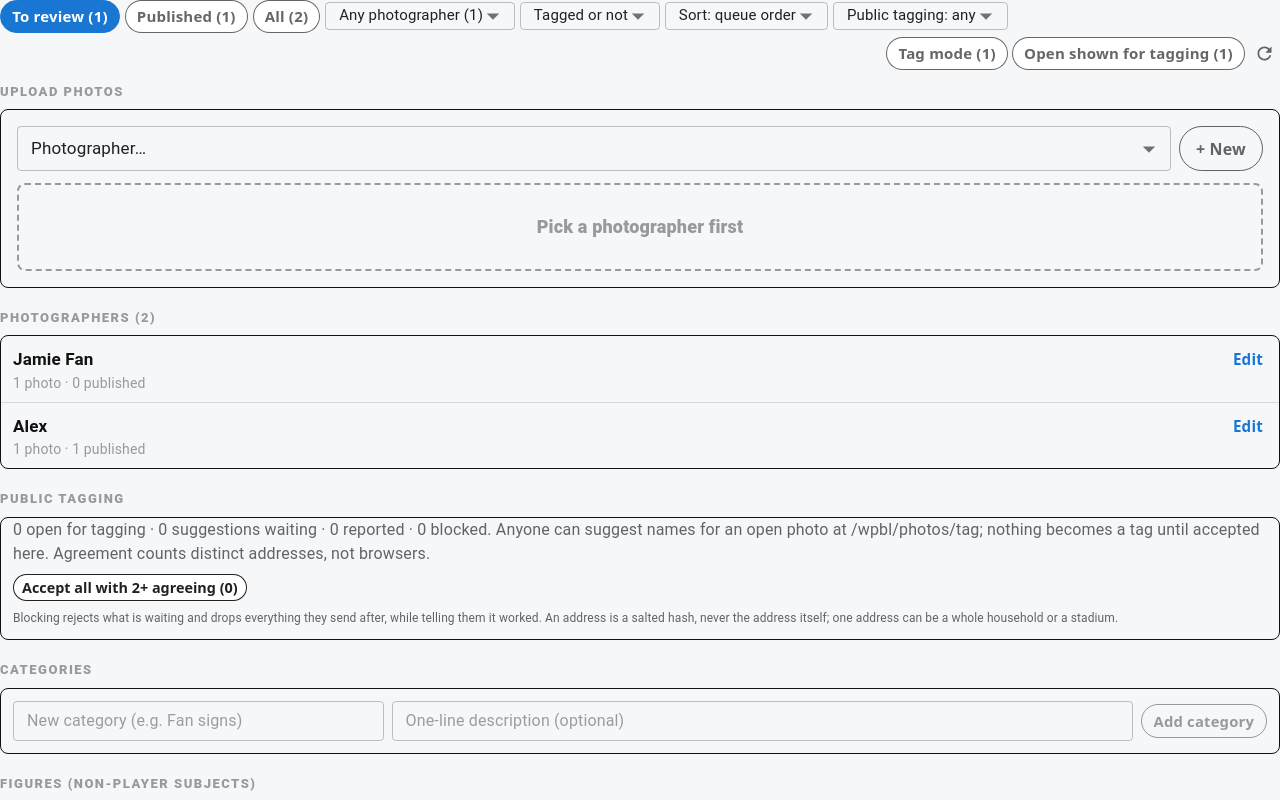
Test: AdminPhotos curation › opens tag mode on the photo list and steps with Publish & next
Click the button "All (2)" at (286, 16), box [252,0,320,32]
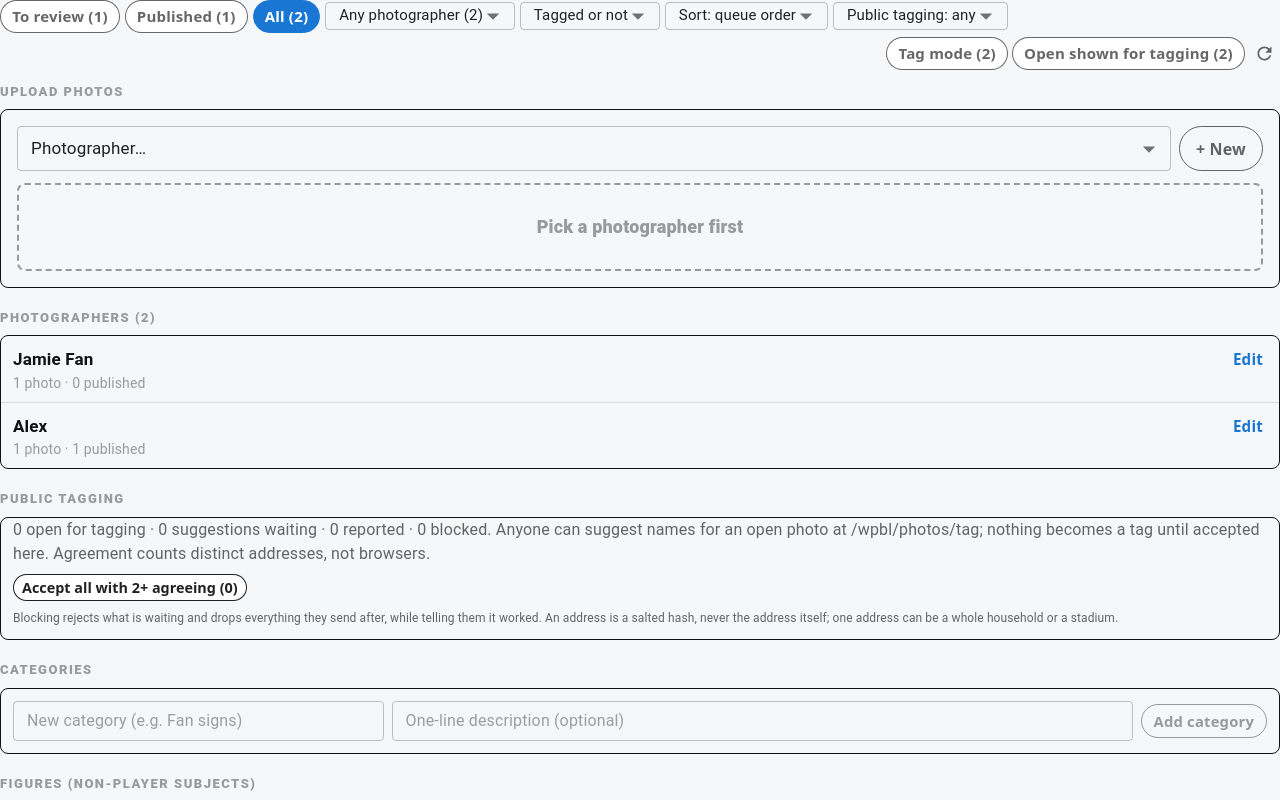
Click the button "Tag mode (2)" at (947, 54), box [886,37,1008,70]
(page scrolled)
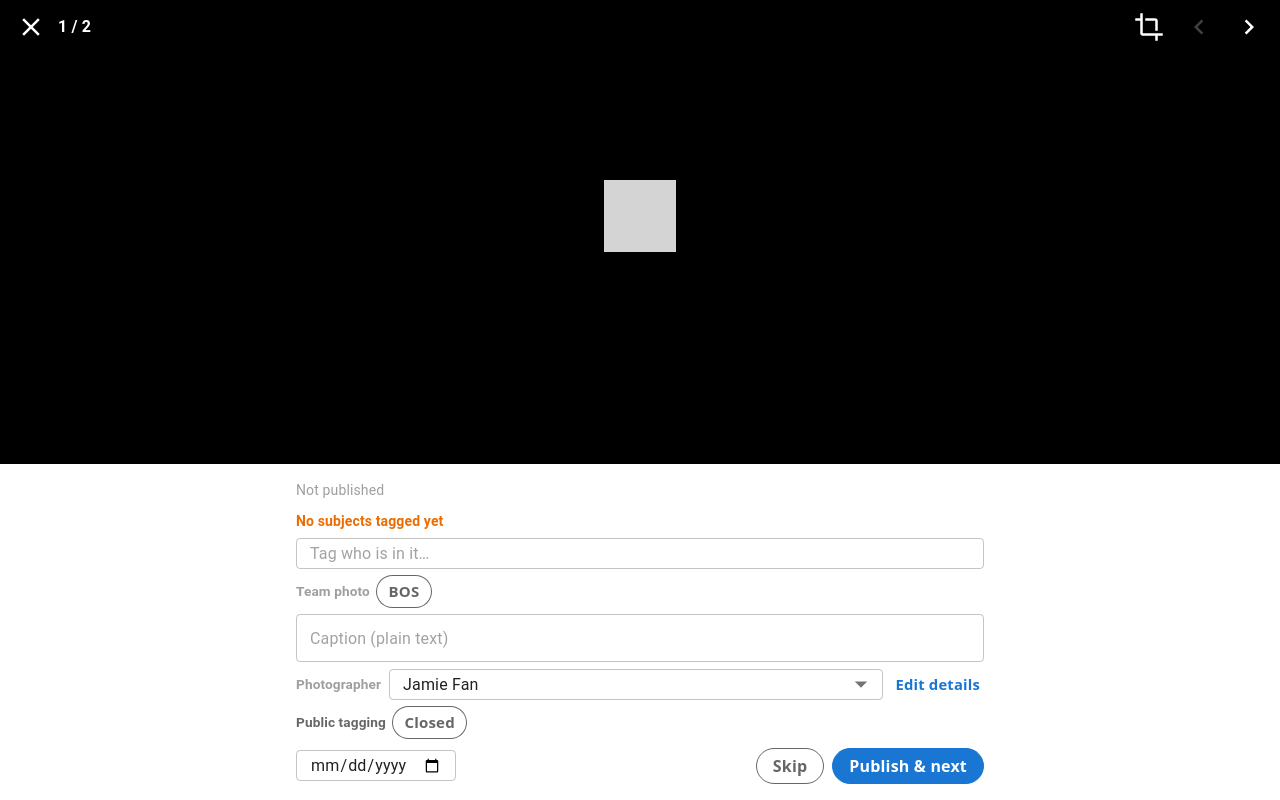
Now the text "1 / 2" is shown, box [58,17,91,36]
Click the button "Publish & next" at (908, 766), box [832,748,984,784]
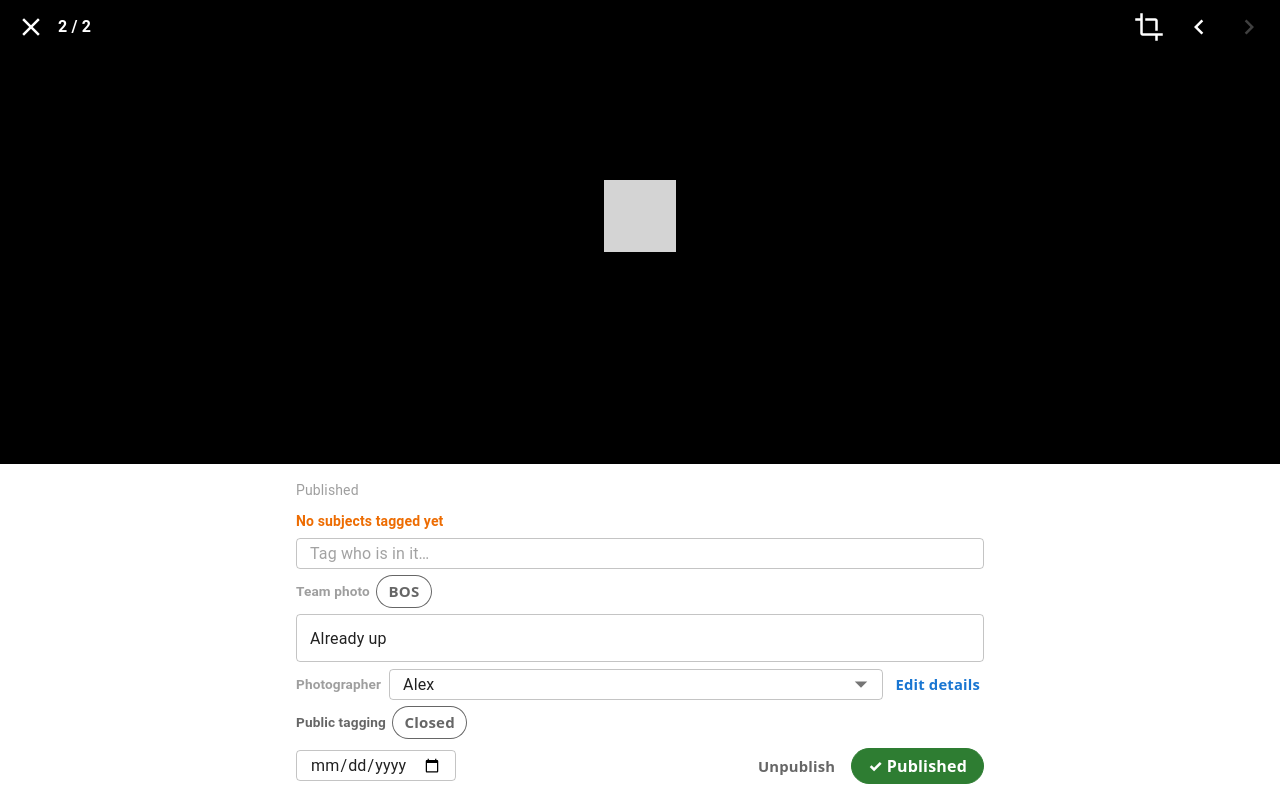
Now the text "2 / 2" is shown, box [58,17,91,36]
